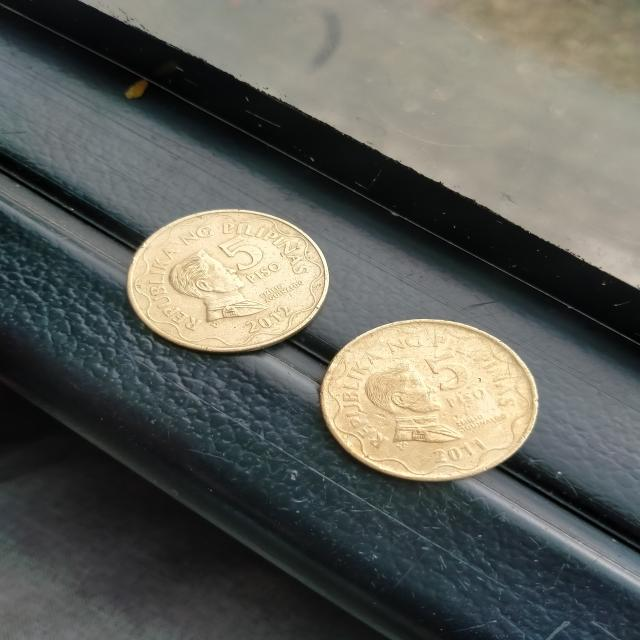5_Old_Front: (415, 351, 497, 412), (209, 230, 289, 282)
